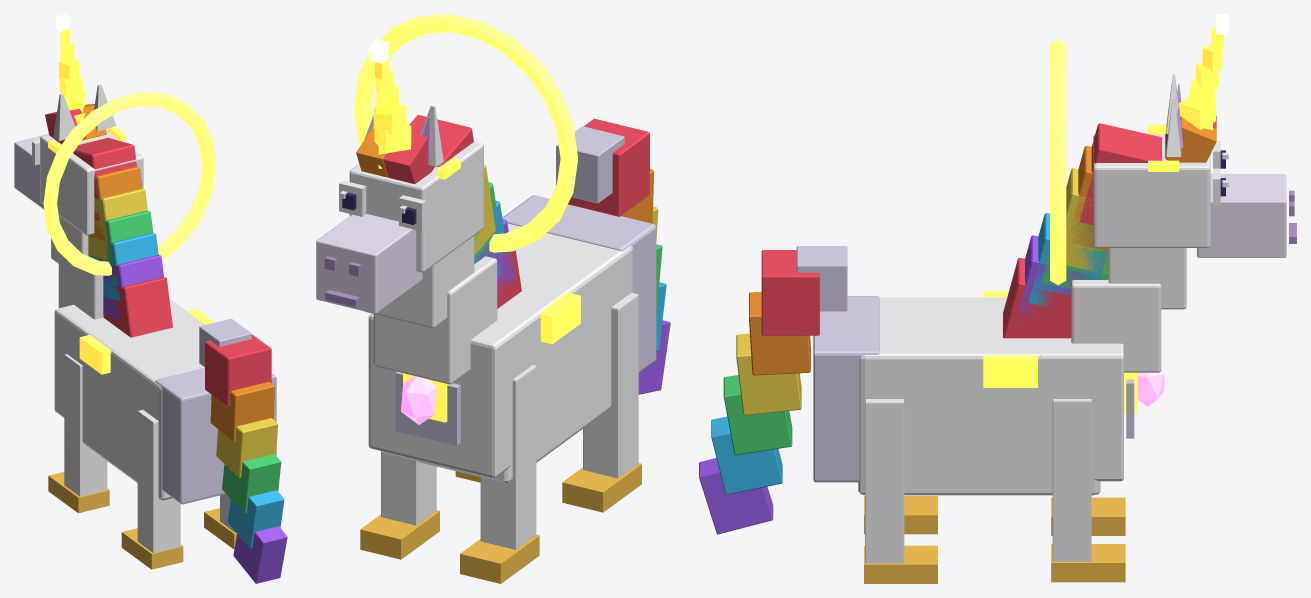
The model's file is unicorn.glb.
3 renders of one model, left to right at view 1: azimuth 30°, elevation 25°; view 2: azimuth 150°, elevation 25°; view 3: azimuth 270°, elevation 25°, orthographic. The views are drawn at different scales.
Visible parts, largest first — view 1: body, tail, head, leg.BR, leg.FR, leg.BL, ear.R, ear.L; view 2: body, head, tail, leg.BR, leg.FR, leg.FL, ear.R; view 3: body, head, tail, leg.BL, leg.FL, leg.FR, leg.BR.
Boxes of the visible parts, <box> form: body: <box>51,137,276,504</box>; tail: <box>199,318,287,583</box>; head: <box>14,14,215,275</box>; leg.BR: <box>121,410,183,569</box>; leg.FR: <box>48,354,109,513</box>; leg.BL: <box>204,494,236,549</box>; ear.R: <box>53,93,75,141</box>; ear.L: <box>94,84,116,131</box>; body: <box>365,115,656,483</box>; head: <box>316,14,577,313</box>; tail: <box>556,118,670,394</box>; leg.BR: <box>562,292,641,512</box>; leg.FR: <box>460,365,539,583</box>; leg.FL: <box>360,451,439,559</box>; ear.R: <box>420,105,443,167</box>; body: <box>813,123,1186,495</box>; head: <box>1050,14,1296,285</box>; tail: <box>699,246,847,534</box>; leg.BL: <box>864,399,937,583</box>; leg.FL: <box>1051,399,1125,582</box>; leg.FR: <box>1051,497,1125,535</box>; leg.BR: <box>864,496,937,534</box>.
Size of the model in its own units: 0.4172 by 1 by 1.02.
